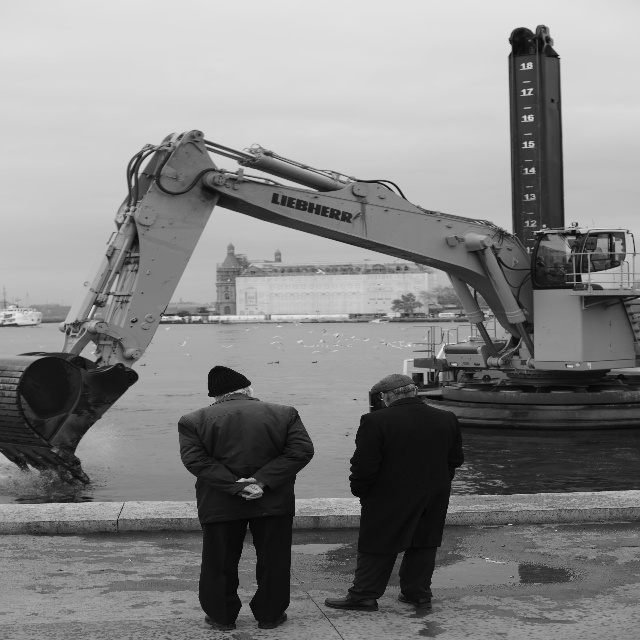Sin_guantes: (239, 472, 265, 501)
